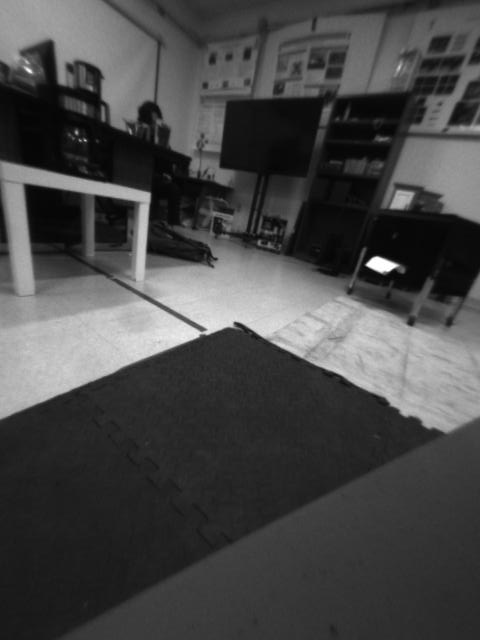coffee_pot: (52, 88, 110, 188)
